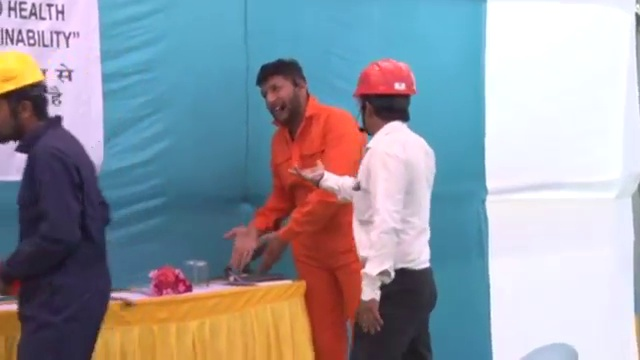helmet: (349, 55, 418, 96), (1, 47, 53, 94)
helmet_off: (253, 56, 313, 125)
helmet_on: (1, 46, 62, 152), (349, 54, 421, 135)
person: (287, 56, 442, 360), (224, 55, 368, 360), (1, 46, 112, 349)
